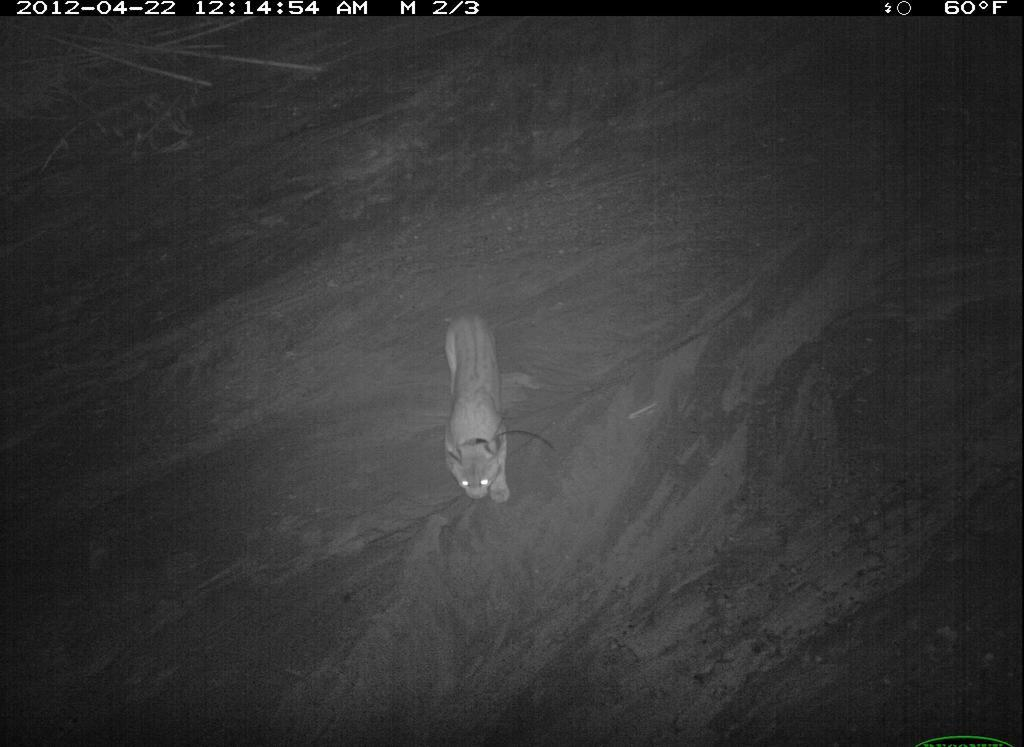bobcat: (879, 612, 1024, 747)
